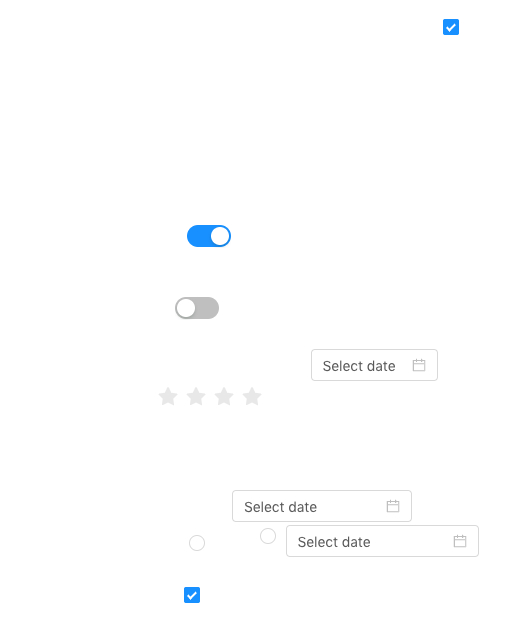Checkbox: (443, 16, 459, 37), (184, 584, 200, 605)
DatePicker: (286, 525, 479, 557), (232, 490, 412, 522), (311, 349, 438, 381)
Radio: (189, 532, 205, 552), (260, 525, 276, 545)
Rate: (158, 380, 278, 412)
Switch: (175, 296, 219, 320), (187, 224, 231, 248)
